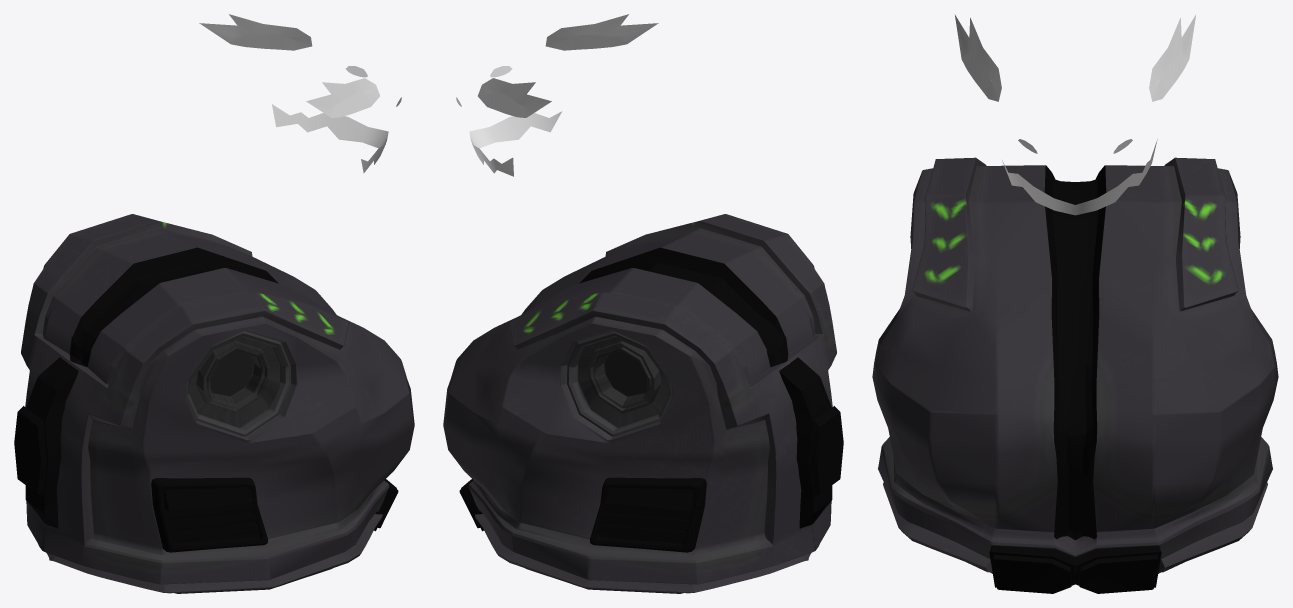
File: AS_DiagF_MOuthRR.fbx
3 views of the same model, side by side, from view 1: azimuth 30°, elevation 25°; view 2: azimuth 150°, elevation 25°; view 3: azimuth 270°, elevation 25° (orthographic). The views are drawn at different scales.
Visible parts, largest first — view 1: Chest_armor, Face; view 2: Chest_armor, Face; view 3: Chest_armor, Face.
Boxes of the visible parts, box(x1,y1,x2,y2) form: Chest_armor: box(14, 214, 414, 593); Face: box(199, 14, 401, 173); Chest_armor: box(443, 214, 843, 593); Face: box(456, 14, 658, 176); Chest_armor: box(872, 157, 1278, 593); Face: box(955, 15, 1195, 215).
Size of the model in its own units: 31.06 by 26.77 by 38.9.
